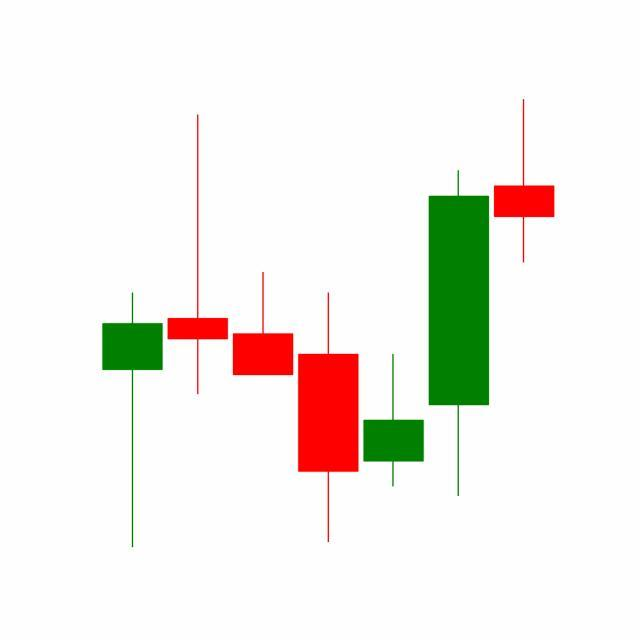Three Inside Up-Down: (295, 168, 492, 548)
